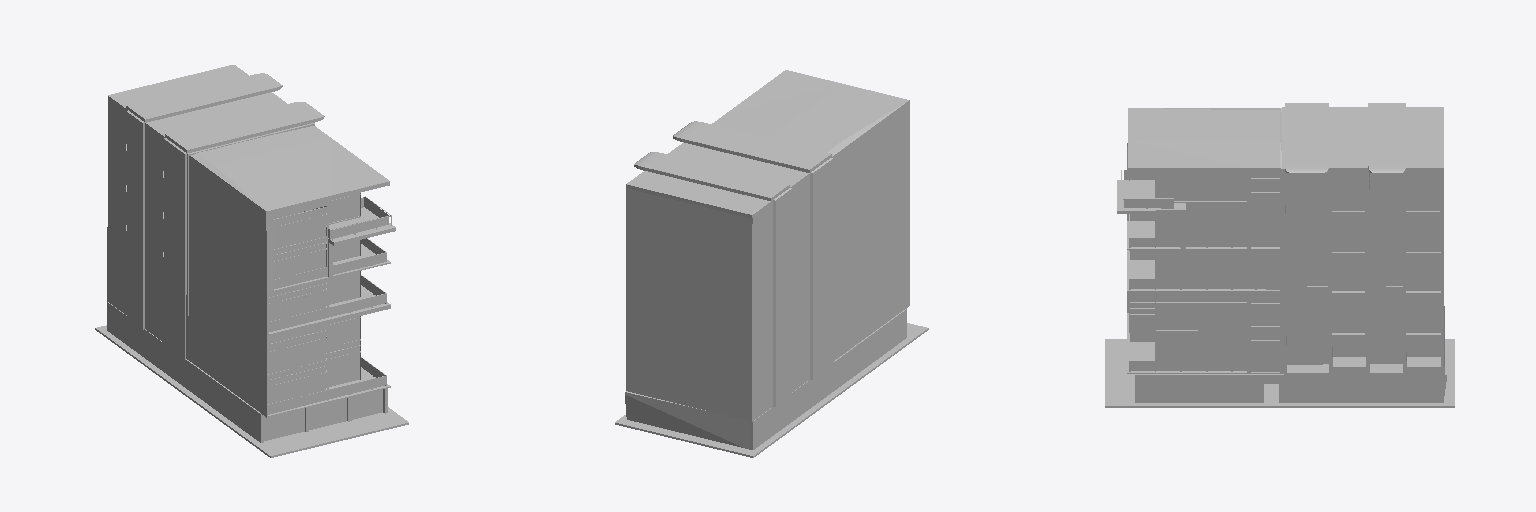
The model's file is building4.obj.
3 views of the same model, side by side, from view 1: azimuth 30°, elevation 25°; view 2: azimuth 150°, elevation 25°; view 3: azimuth 270°, elevation 25° (orthographic).
Visible parts, largest first — view 1: Cube.003_Cube, Cube.002_Cube.003, Plane.001, Cube.001_Cube.002, Plane, Cube_Cube.001, Plane.002; view 2: Cube.003_Cube, Cube.002_Cube.003, Cube.001_Cube.002, Plane, Cube_Cube.001; view 3: Plane.001, Cube.003_Cube, Cube.002_Cube.003, Plane, Plane.002, Cube_Cube.001, Cube.001_Cube.002.
Part boxes in pixels (x1,y1,x2,y2): Cube.003_Cube: (107, 65, 324, 360); Cube.002_Cube.003: (189, 125, 395, 293); Plane.001: (264, 193, 388, 440); Cube.001_Cube.002: (188, 236, 390, 417); Plane: (107, 144, 387, 442); Cube_Cube.001: (95, 325, 408, 457); Plane.002: (268, 193, 391, 410); Cube.003_Cube: (626, 121, 833, 421); Cube.002_Cube.003: (712, 70, 909, 235); Cube.001_Cube.002: (834, 182, 909, 360); Plane: (625, 309, 906, 449); Cube_Cube.001: (615, 323, 928, 457); Plane.001: (1124, 170, 1440, 402); Cube.003_Cube: (1282, 103, 1444, 374); Cube.002_Cube.003: (1117, 108, 1282, 249); Plane: (1130, 203, 1446, 402); Plane.002: (1121, 170, 1402, 371); Cube_Cube.001: (1105, 339, 1454, 407); Cube.001_Cube.002: (1127, 249, 1283, 373).
Bounding box in the file's own units: 6.61 × 10.39 × 13.73.